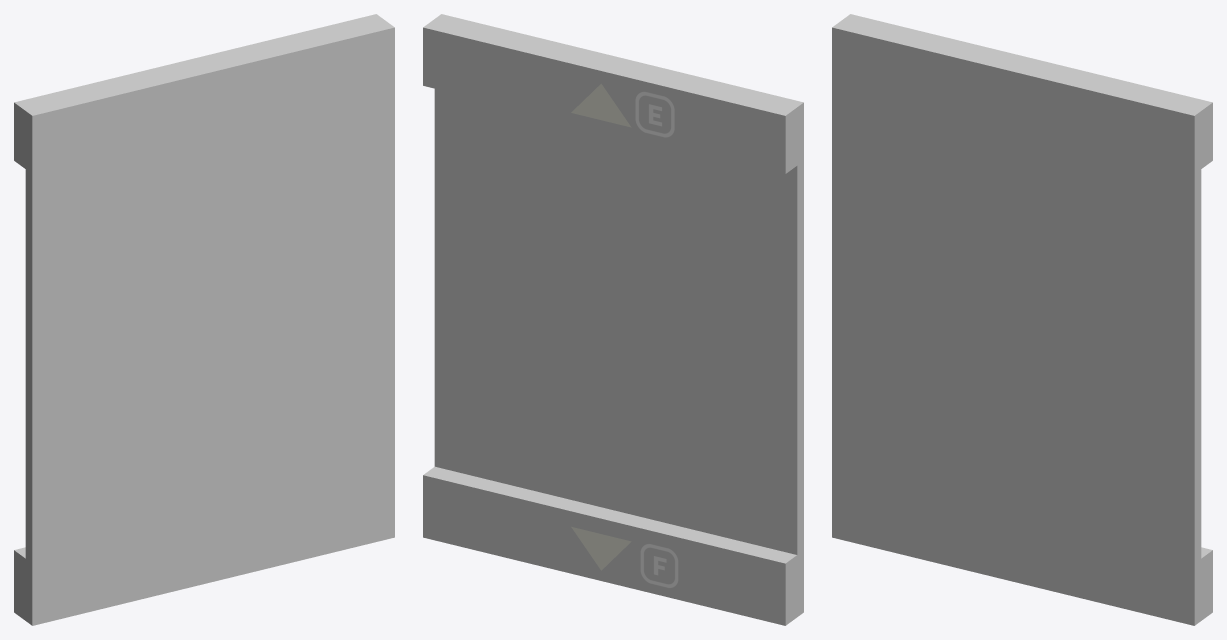
The model's file is collection_menu_bg.glb.
3 views of the same model, side by side, from view 1: azimuth 30°, elevation 25°; view 2: azimuth 150°, elevation 25°; view 3: azimuth 330°, elevation 25° (orthographic).
Parts seen in each view (by area): view 1: collection_menuBG; view 2: collection_menuBG, Plane.001; view 3: collection_menuBG.
Boxes of the visible parts, <box> form: collection_menuBG: <box>14,14,394,625</box>; collection_menuBG: <box>423,14,803,625</box>; Plane.001: <box>571,83,678,587</box>; collection_menuBG: <box>832,14,1212,625</box>.
Bounding box in the file's own units: 1.3 × 1.75 × 0.1331.
1 material, 1 textured.
